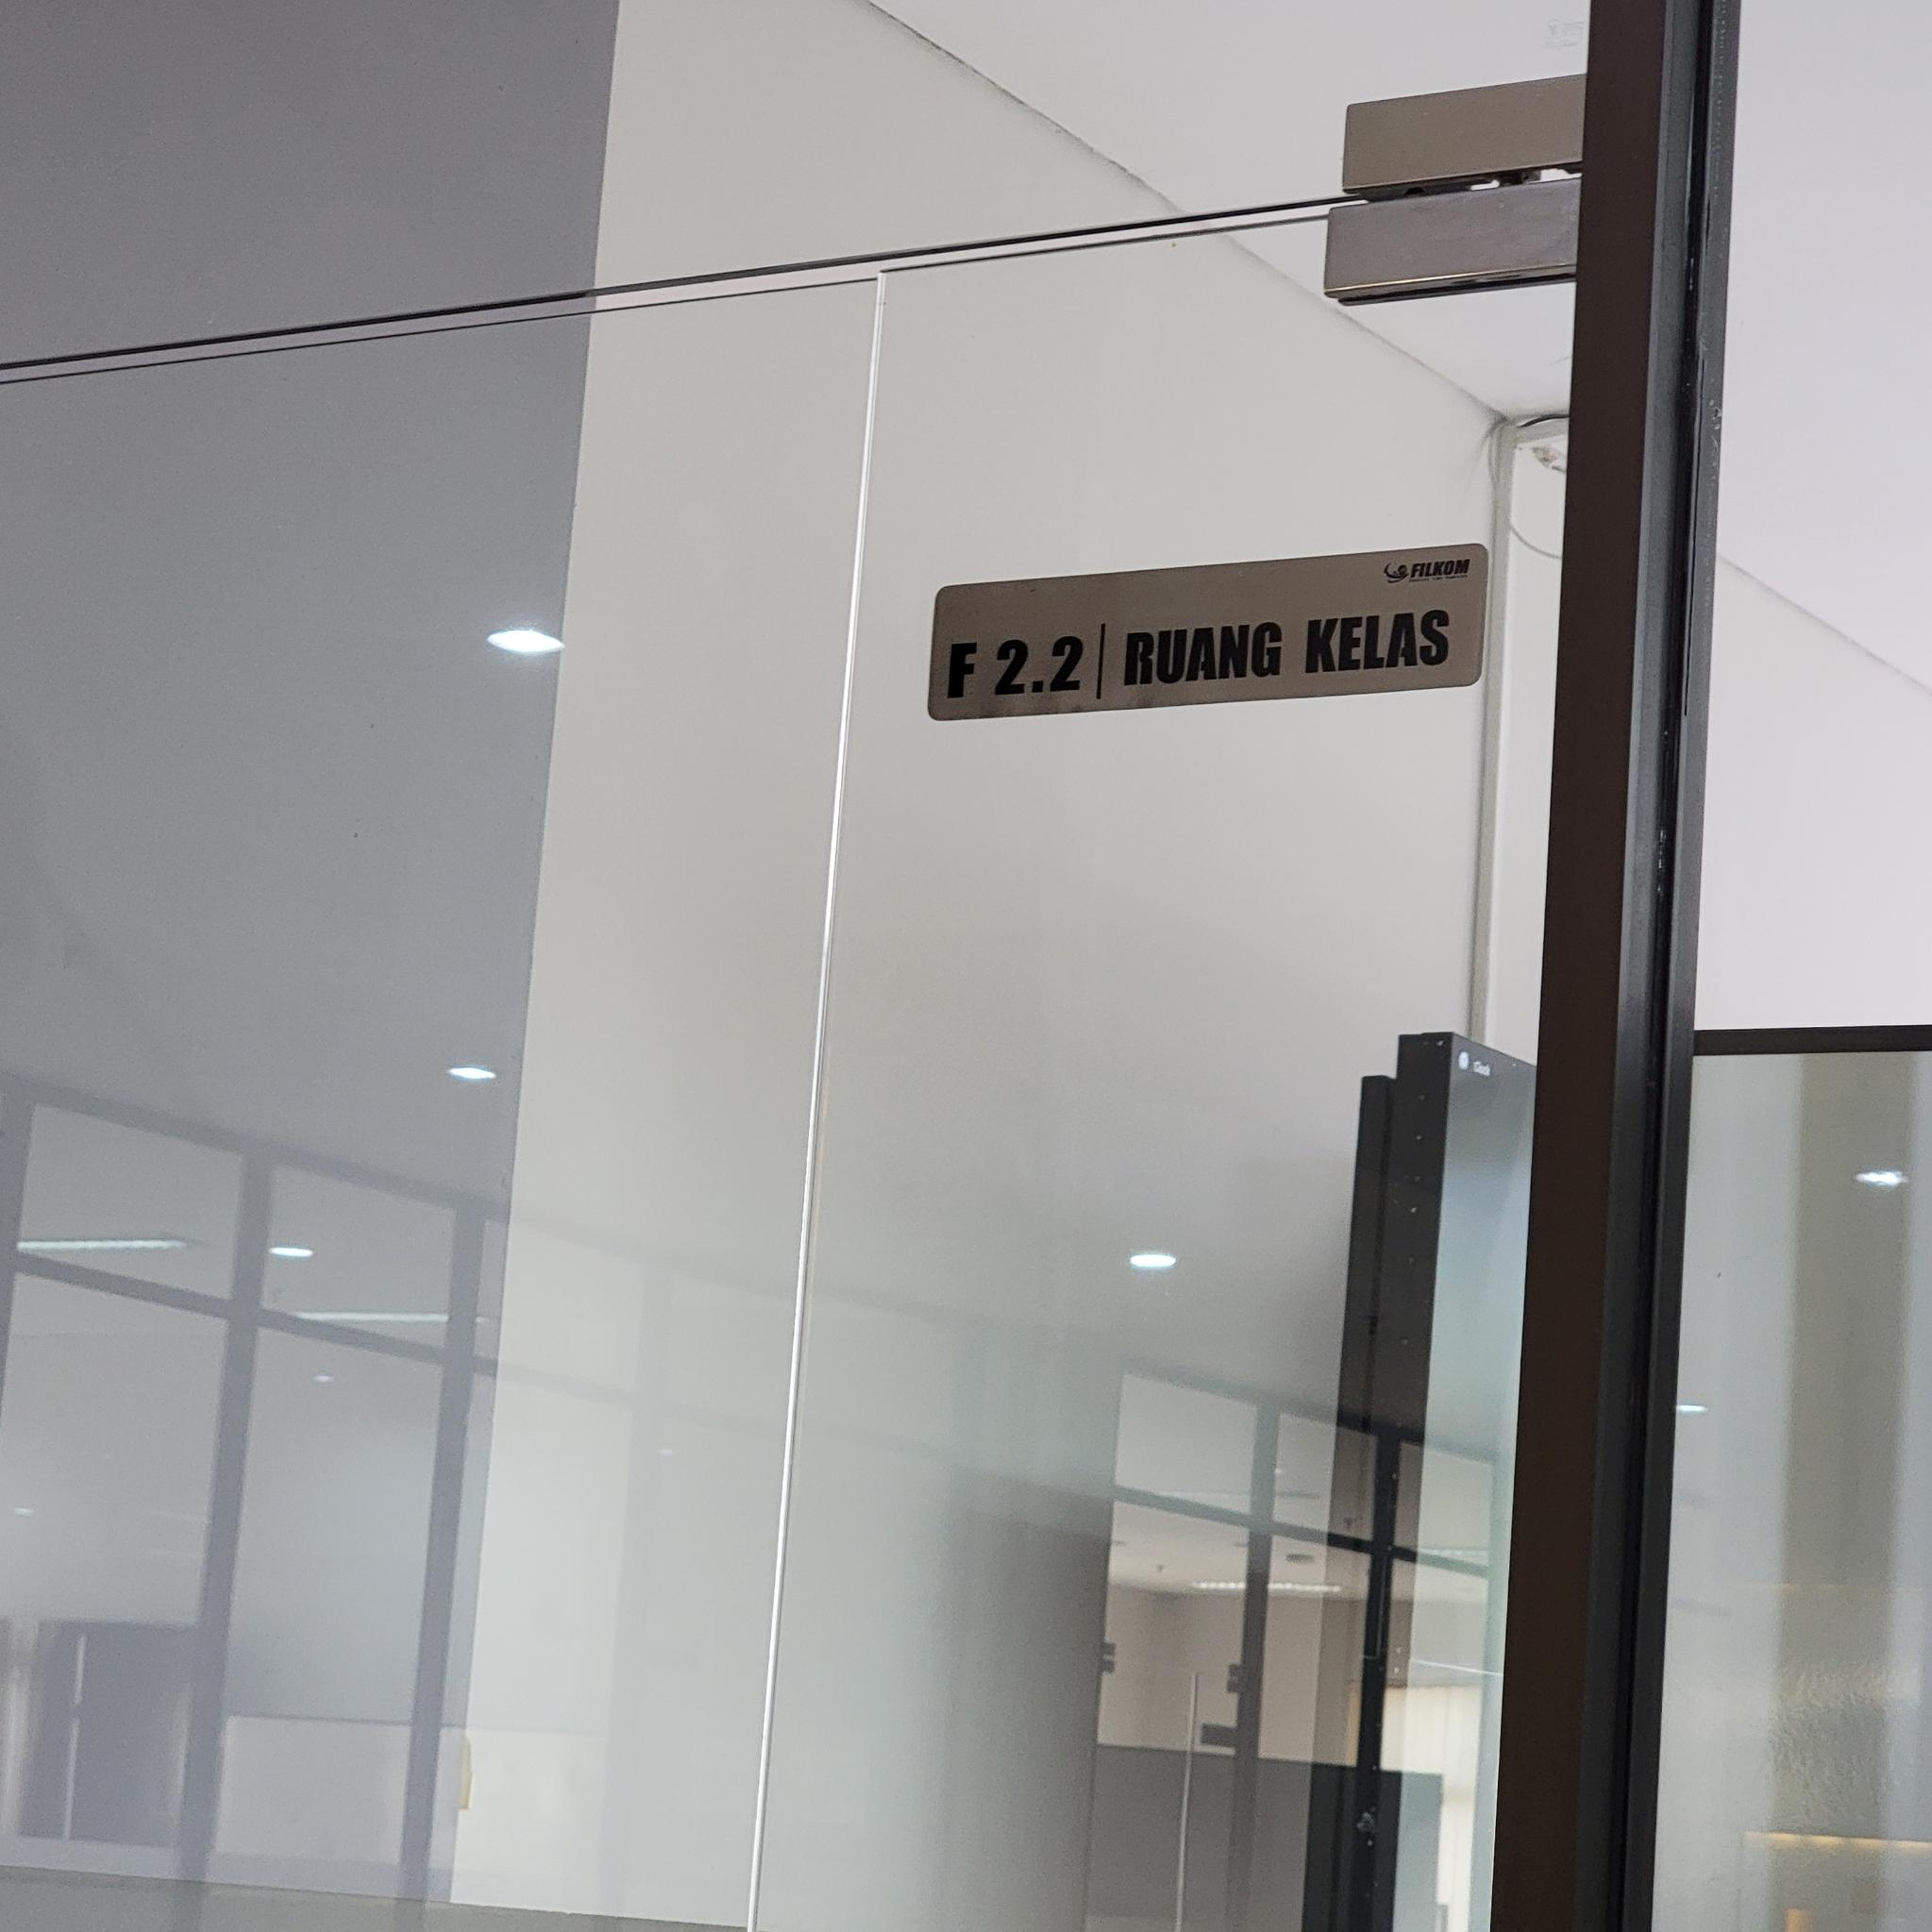plate: (927, 543, 1488, 722)
